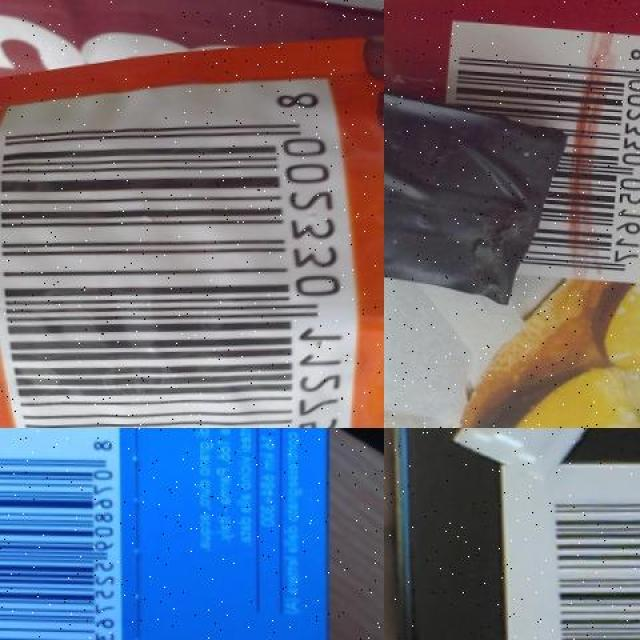Barcode: (0, 63, 360, 428), (432, 16, 640, 284), (498, 457, 640, 639), (0, 428, 117, 640)
